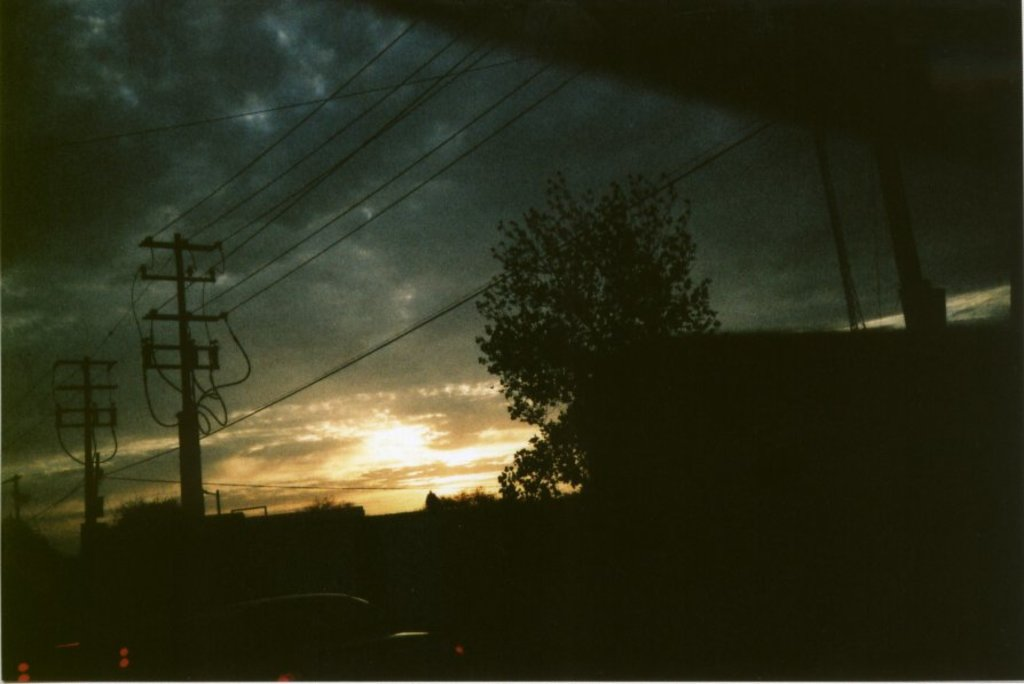Tree: (465, 153, 725, 478)
